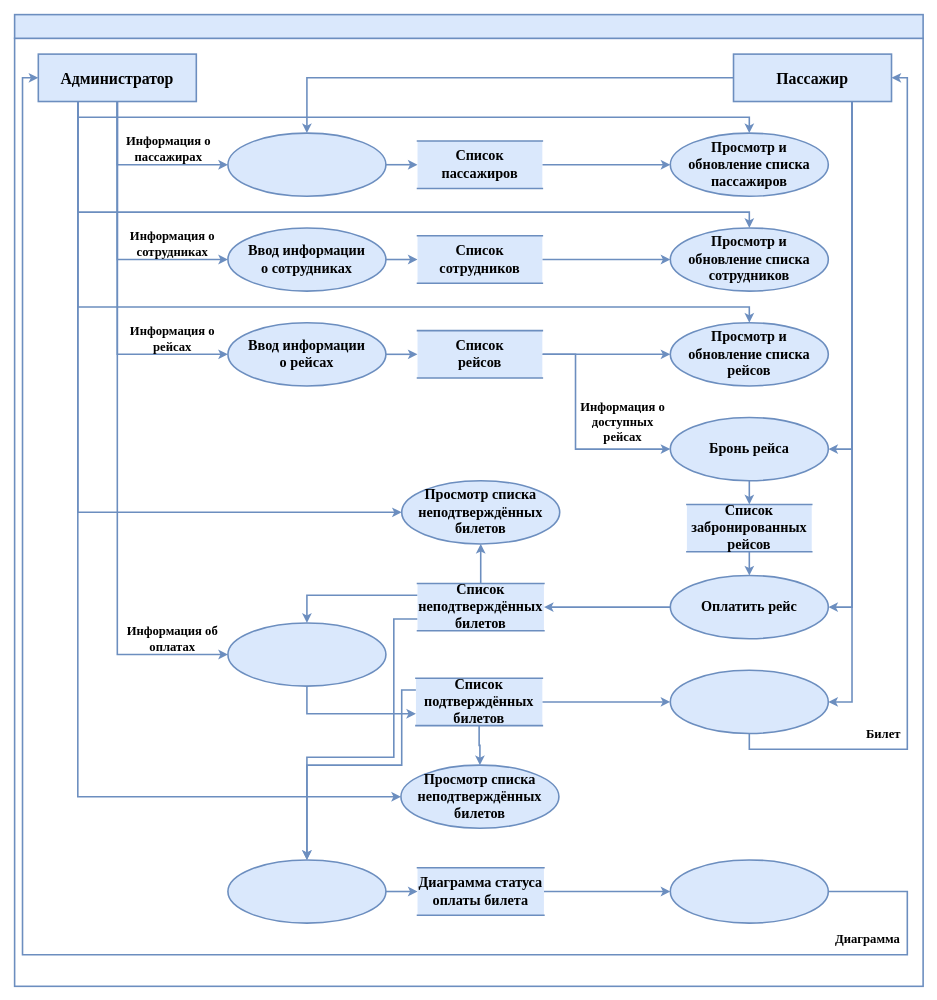
The diagram is 937 pixels wide and 1000 high, and some of its shapes have lost their labels. Here are the shapes that lost their labels. From the top down, the centre of each, then its label:
At (468,26): "Диаграмма потоков данных".
At (306,164): "Ввод информации о пассажирах".
At (306,654): "Подтвердить оплату билета".
At (749,701): "Напечатать билет".
At (306,891): "Формирование диаграммы статуса оплаты билета".
At (749,891): "Напечатать или скачать диаграмму".
